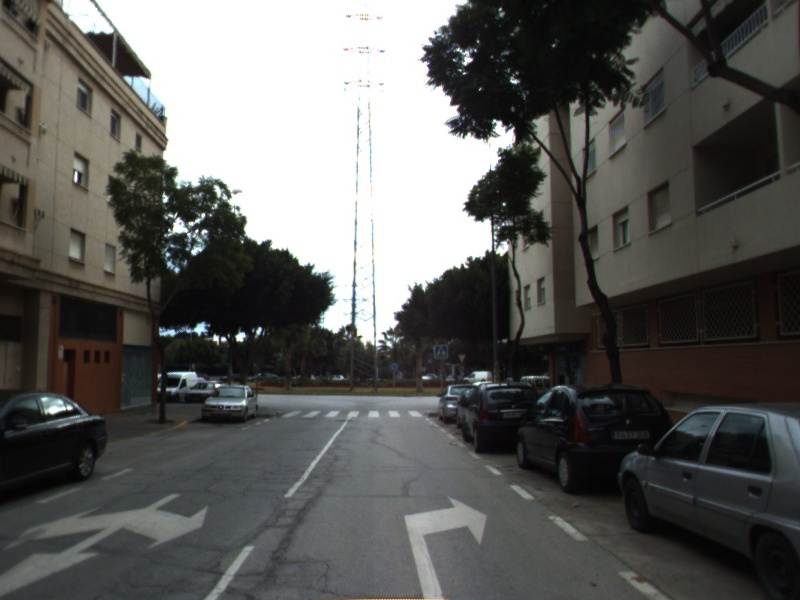RIGHT: (401, 493, 490, 600)
